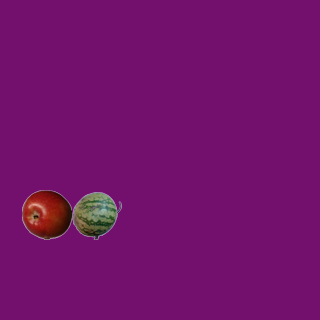Apple Braeburn: (21, 189, 71, 239)
Watermelon: (71, 190, 121, 240)
